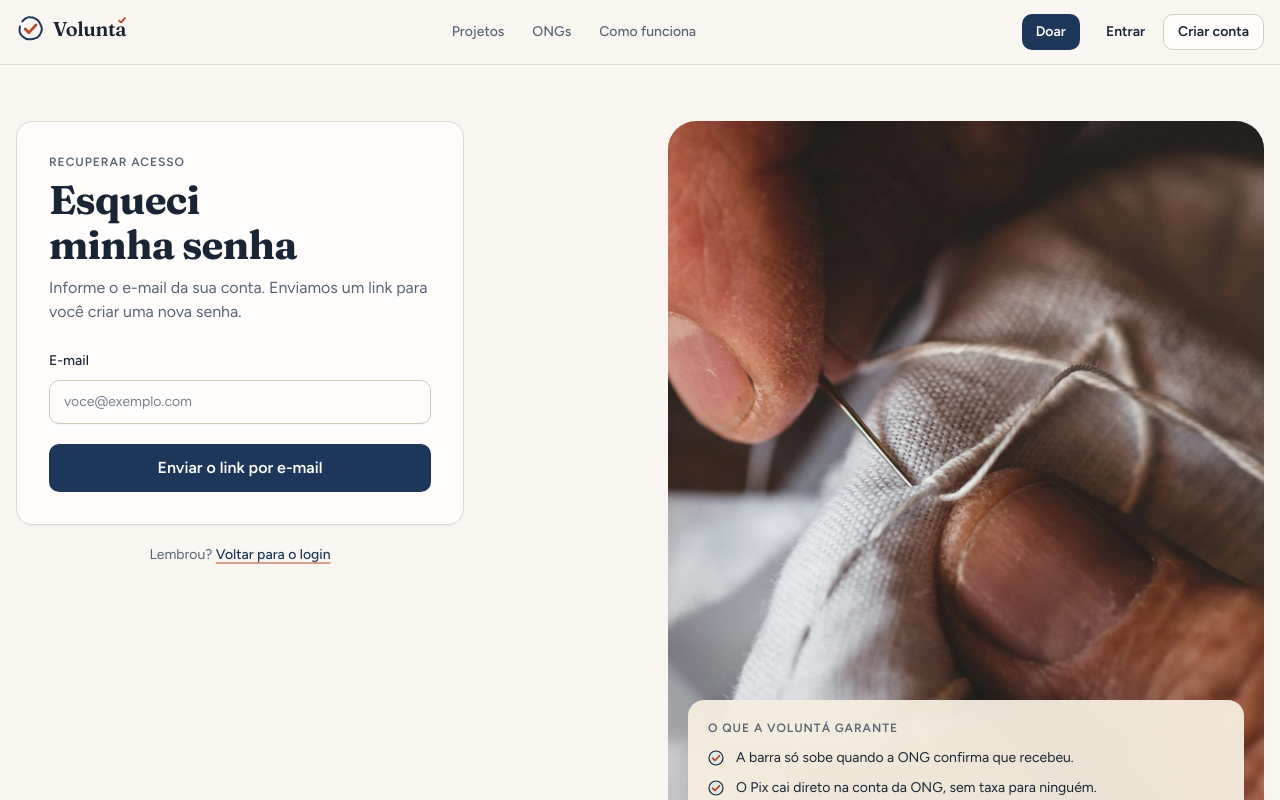
Test: EsqueciSenhaPage › erro do servidor aparece na tela, em português
Type "maria@exemplo.com" into the field labelled "E-mail".
click(240, 402); type("maria@exemplo.com")  # box [49, 380, 431, 424]
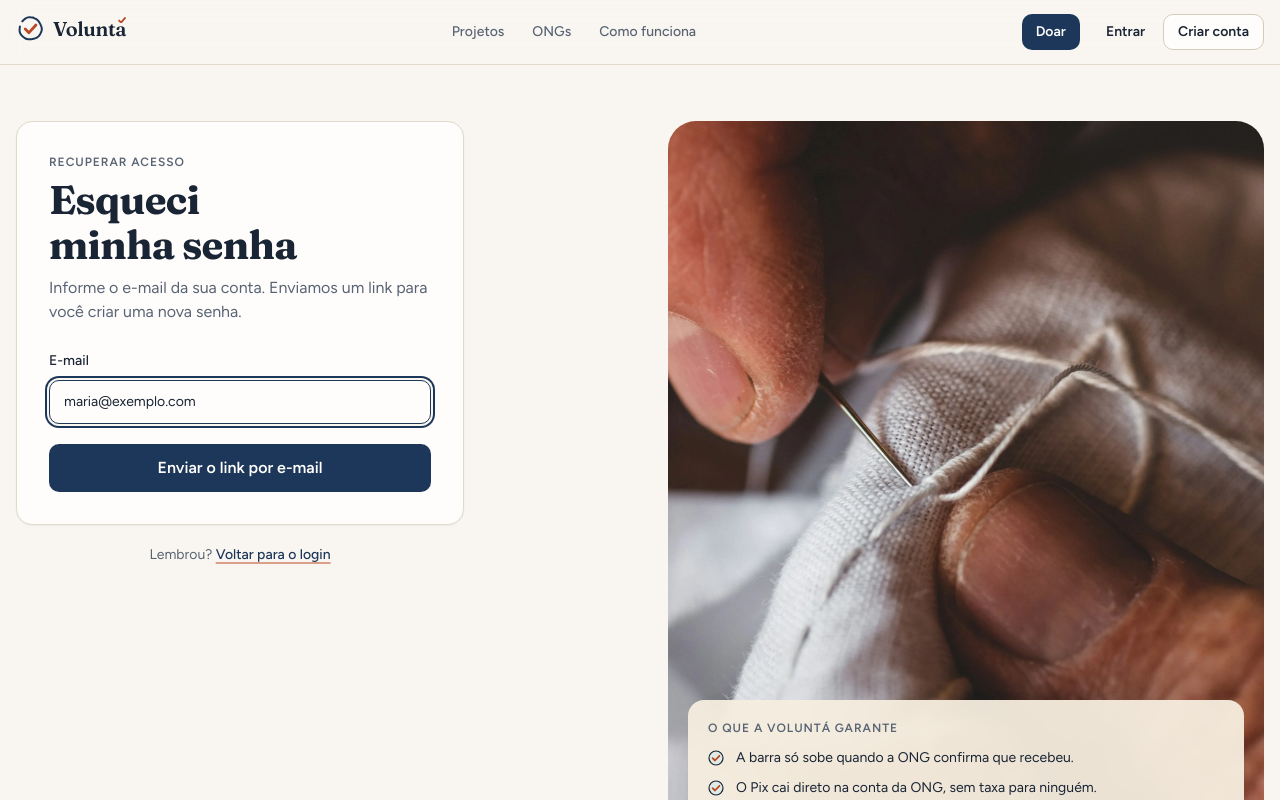
Click the button "Enviar o link por e-mail".
click(240, 468)  # box [49, 444, 431, 492]
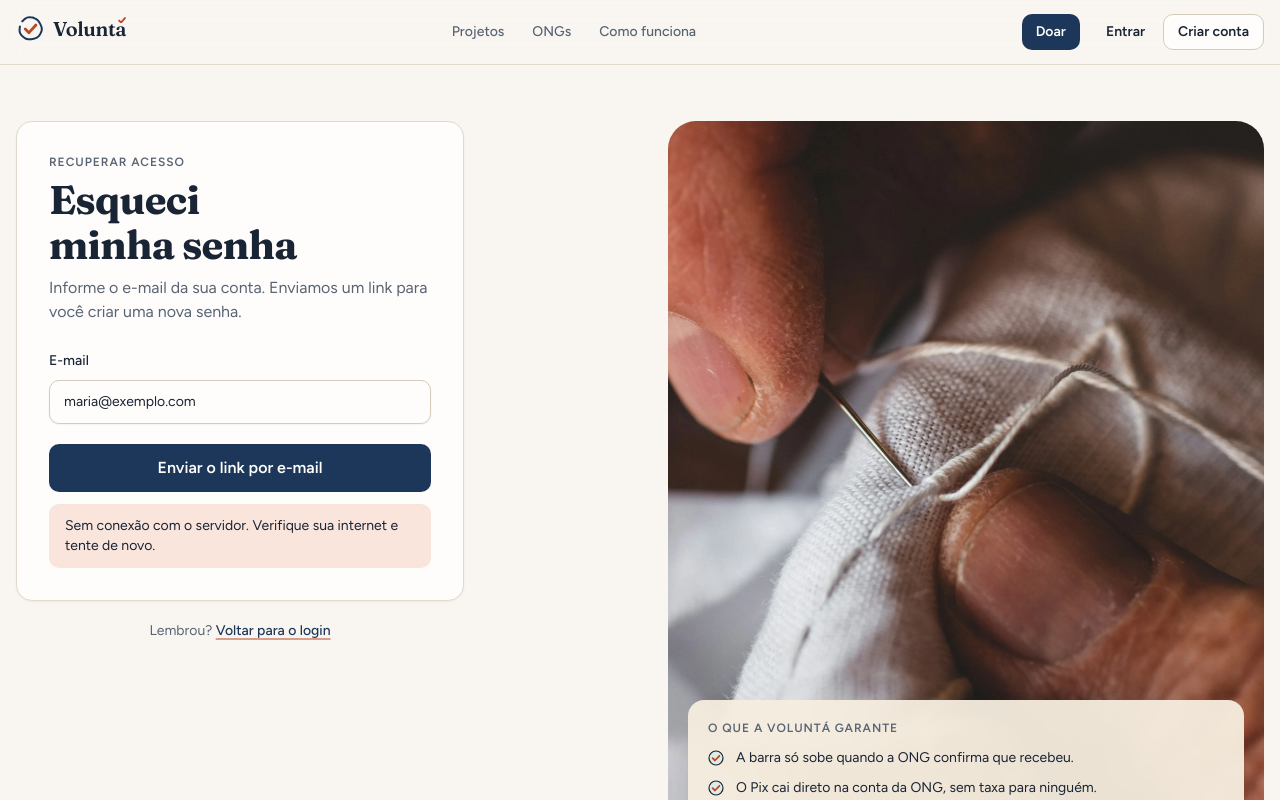
Expected: the message does not show "fetch", [49, 504, 431, 568]
Result: the message shows "Sem conexão" at [65, 517, 398, 554]
